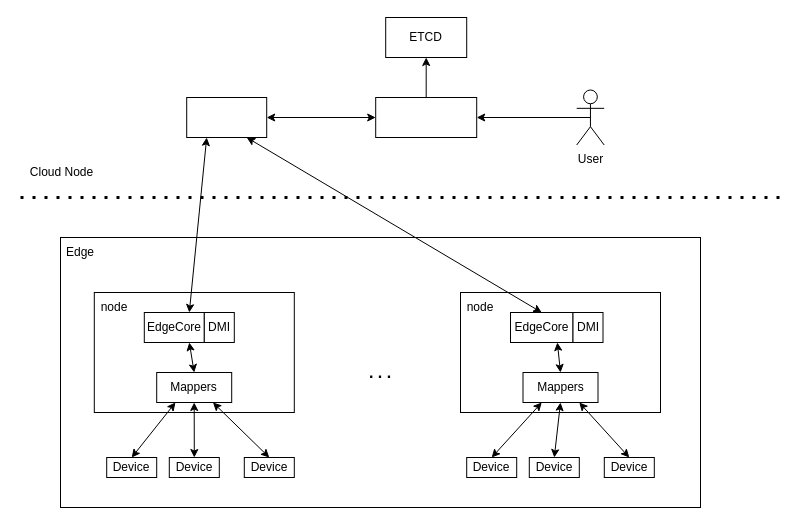
Image size: 801x525. Some labels were removed from this diagram. The shapes that lost their labels are listed below. From the top down, each one's centre as x and y in pixels, then its label:
point (226, 117): CloudCore
point (426, 117): K8s API-Server
